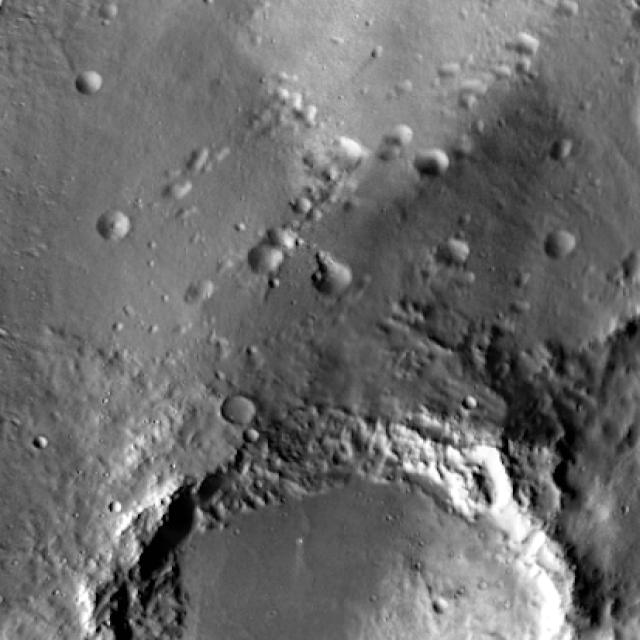Crater: (85, 399, 623, 640), (0, 0, 22, 70)
